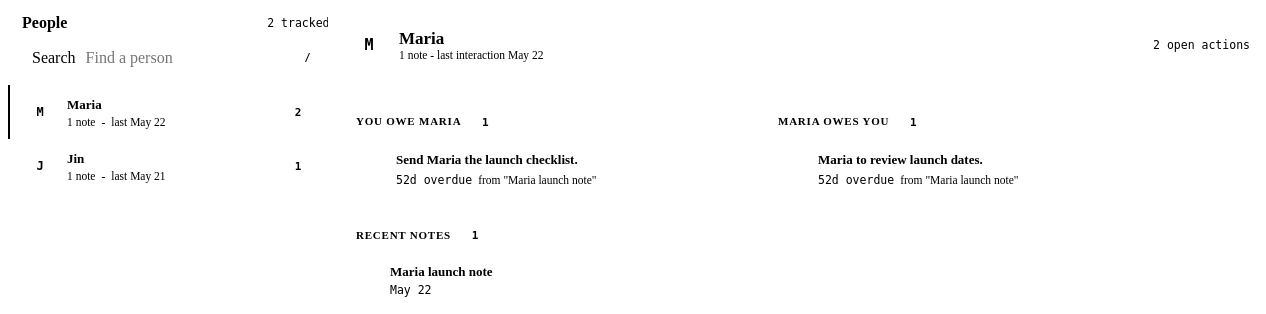
Test: PeopleView › filters the people list by search text
In the field named "Search people": [186, 58] box [84,48,288,68], type "jin"
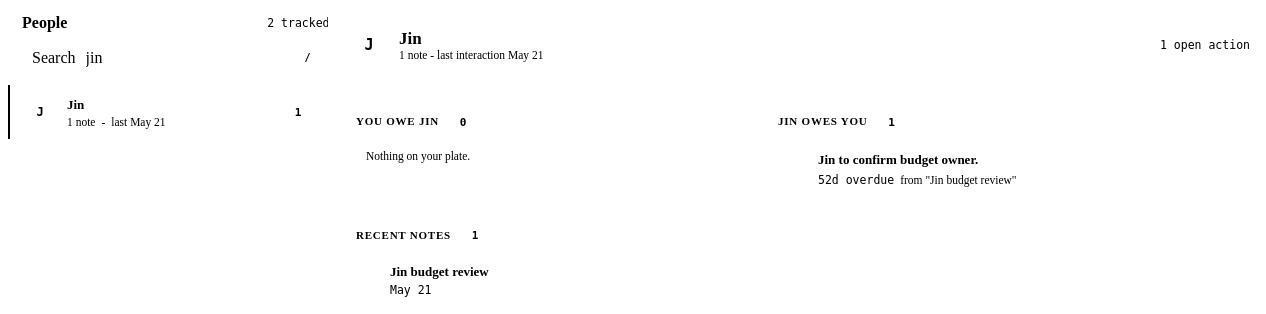
Check: the button with aria-label "Select Jin" is shown, box [8,85,328,139]
Check: the heading "Jin" is shown, box [399,29,422,48]
Check: the heading "Jin owes you" is shown, box [778,115,868,129]
